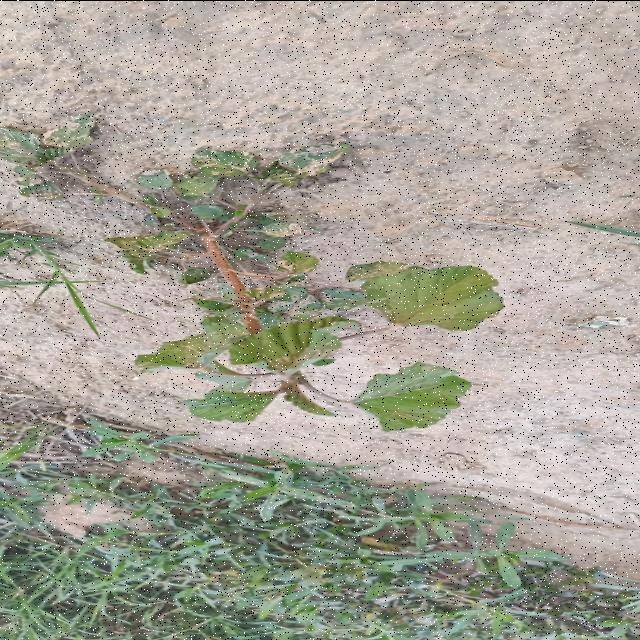plant: (0, 114, 502, 430), (136, 140, 347, 198)
